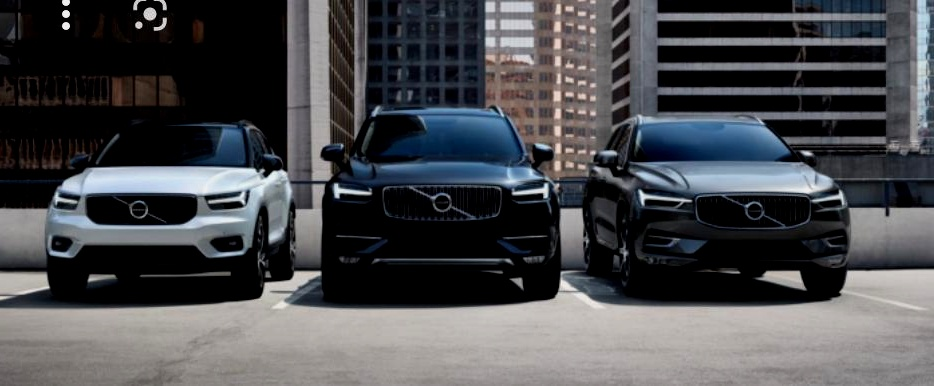car: (581, 105, 860, 300), (315, 98, 562, 302), (35, 112, 297, 303)
